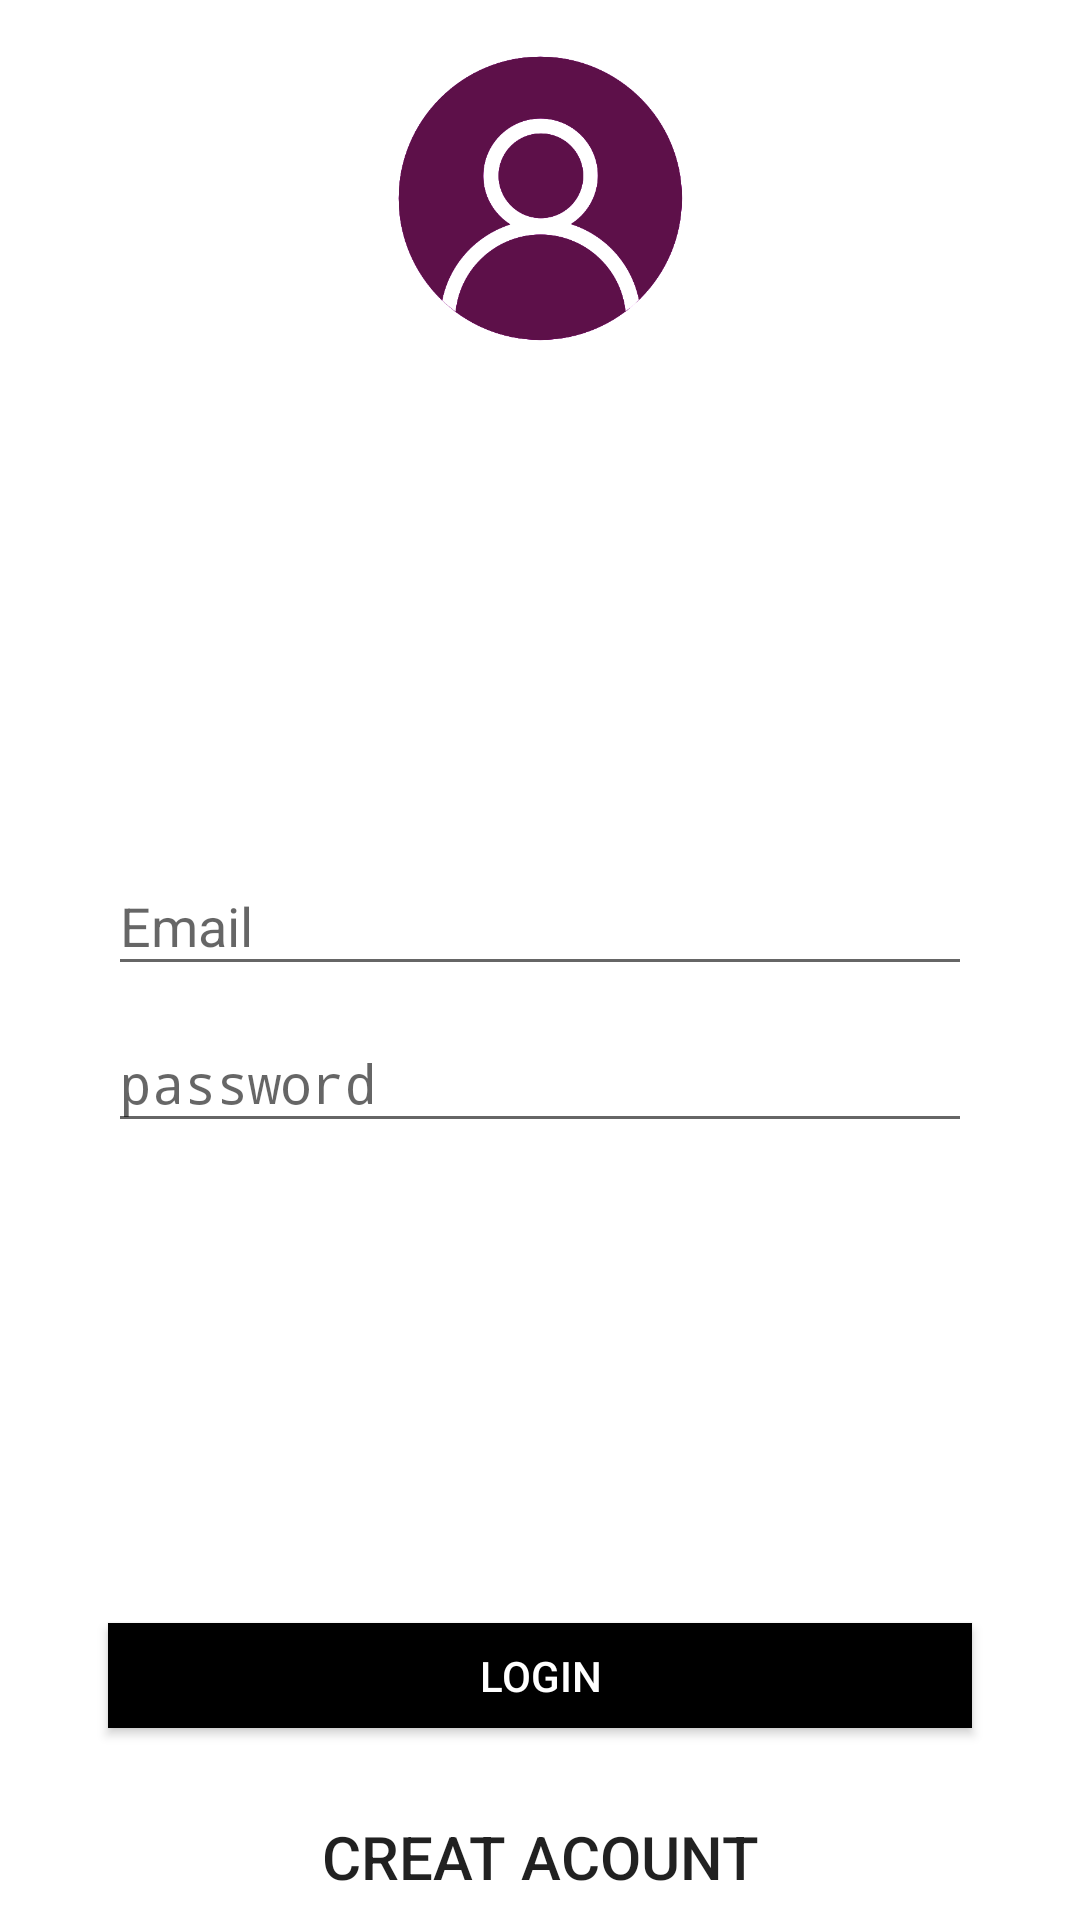

Screen size 1080*1920. Icon name, then its center in pixels as point (x, y):
login: point (540, 198)
